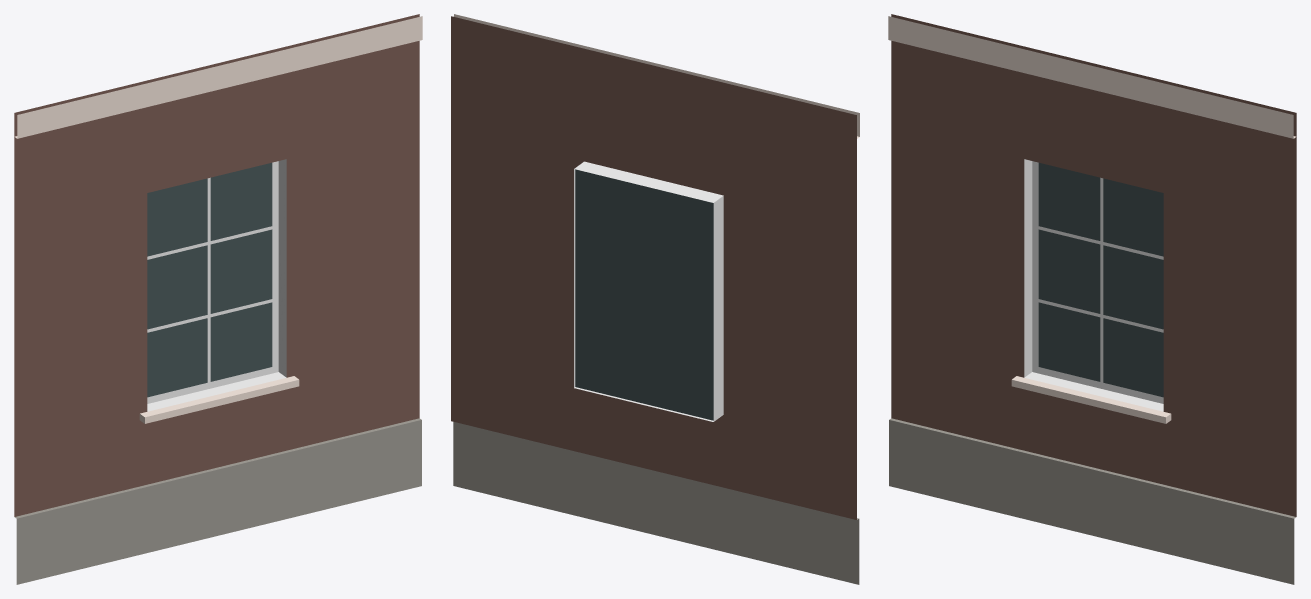
3 renders of one model, left to right at view 1: azimuth 30°, elevation 25°; view 2: azimuth 150°, elevation 25°; view 3: azimuth 330°, elevation 25°, orthographic.
Visible parts, largest first — view 1: a2000s3/600/base-w1; view 2: a2000s3/600/base-w1; view 3: a2000s3/600/base-w1.
Part boxes in pixels (x1,y1,x2,y2): a2000s3/600/base-w1: (14, 14, 422, 584); a2000s3/600/base-w1: (451, 14, 859, 584); a2000s3/600/base-w1: (888, 14, 1296, 584).
Bounding box in the file's own units: 3.2 × 3.55 × 0.21.
